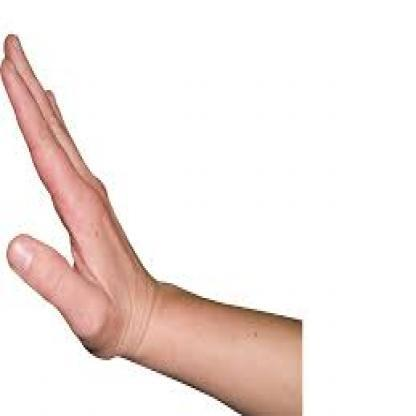stop: (0, 31, 148, 368)
